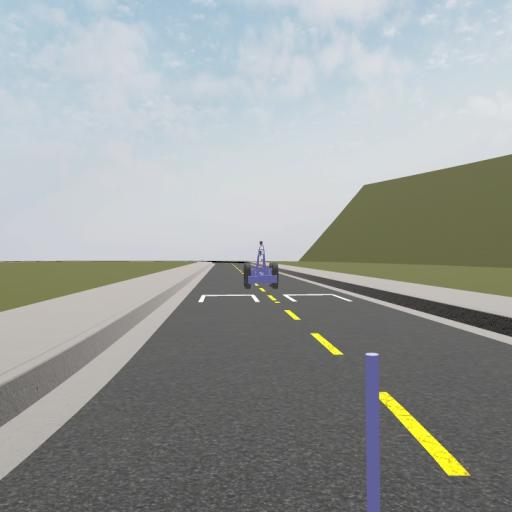ERP-42: (243, 243, 279, 289)
